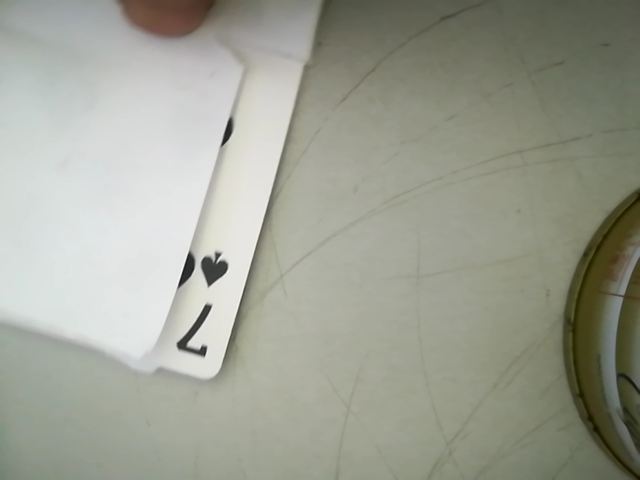ht 7: (154, 233, 241, 371)
